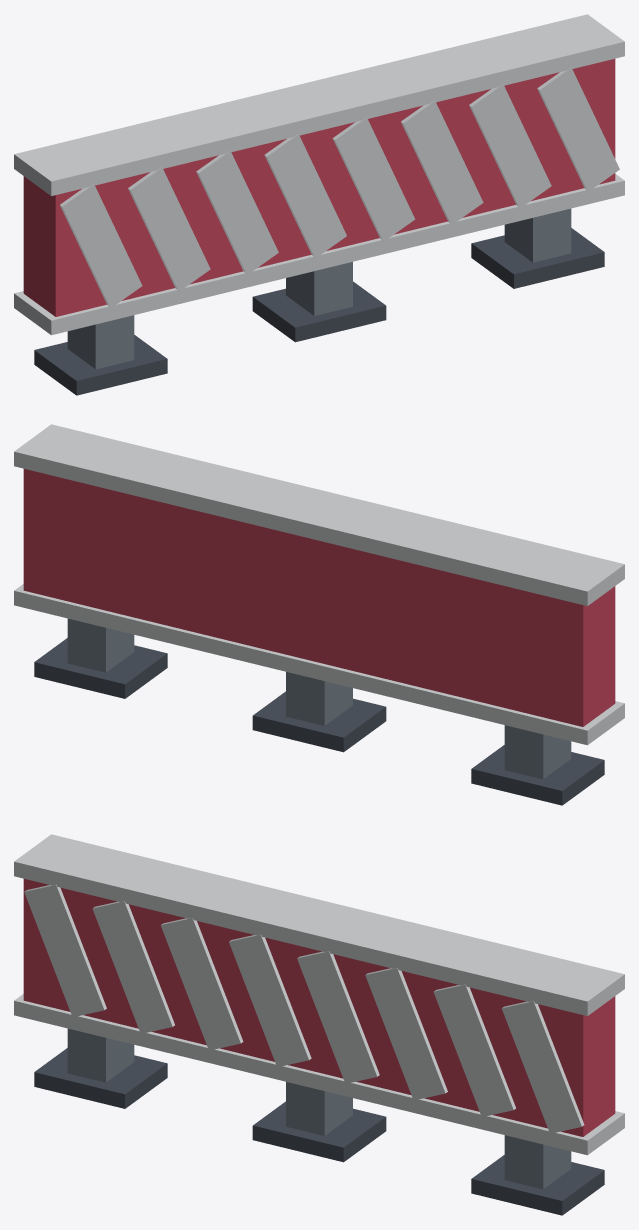
File: road_barrier.glb
3 views of the same model, one above another, from view 1: azimuth 30°, elevation 25°; view 2: azimuth 150°, elevation 25°; view 3: azimuth 330°, elevation 25° (orthographic).
Visible parts, largest first — view 1: barrier_main, barrier_top, barrier_bottom, reflective_stripe_2, reflective_stripe_4, reflective_stripe_1, reflective_stripe_5, reflective_stripe_7, reflective_stripe_3, reflective_stripe_0, reflective_stripe_6, barrier_foot_1.25 (+5 smaller); view 2: barrier_main, barrier_top, barrier_bottom, barrier_foot_1.25, barrier_foot_-1.25, barrier_foot_0, barrier_leg_-1.25, barrier_leg_1.25, barrier_leg_0; view 3: barrier_main, barrier_top, barrier_bottom, reflective_stripe_2, reflective_stripe_4, reflective_stripe_0, reflective_stripe_5, reflective_stripe_7, reflective_stripe_3, reflective_stripe_6, reflective_stripe_1, barrier_foot_-1.25 (+5 smaller).
Part boxes in pixels (bbox=[...]): barrier_main: bbox=[23, 59, 615, 316]; barrier_top: bbox=[14, 14, 624, 195]; barrier_bottom: bbox=[14, 174, 624, 335]; reflective_stripe_2: bbox=[196, 150, 278, 274]; reflective_stripe_4: bbox=[332, 117, 415, 241]; reflective_stripe_1: bbox=[128, 167, 210, 291]; reflective_stripe_5: bbox=[401, 101, 483, 225]; reflective_stripe_7: bbox=[537, 67, 619, 191]; reflective_stripe_3: bbox=[264, 134, 346, 258]; reflective_stripe_0: bbox=[60, 184, 142, 308]; reflective_stripe_6: bbox=[469, 84, 551, 208]; barrier_foot_1.25: bbox=[471, 228, 604, 288]; barrier_main: bbox=[23, 469, 615, 726]; barrier_top: bbox=[14, 424, 624, 605]; barrier_bottom: bbox=[14, 584, 624, 745]; barrier_foot_1.25: bbox=[34, 638, 167, 698]; barrier_foot_-1.25: bbox=[471, 745, 604, 805]; barrier_foot_0: bbox=[252, 691, 386, 752]; barrier_leg_-1.25: bbox=[504, 725, 571, 779]; barrier_leg_1.25: bbox=[67, 618, 134, 672]; barrier_leg_0: bbox=[286, 672, 352, 725]; barrier_main: bbox=[23, 879, 615, 1136]; barrier_top: bbox=[14, 834, 624, 1015]; barrier_bottom: bbox=[14, 994, 624, 1155]; reflective_stripe_2: bbox=[160, 918, 243, 1050]; reflective_stripe_4: bbox=[297, 951, 379, 1083]; reflective_stripe_0: bbox=[24, 884, 106, 1017]; reflective_stripe_5: bbox=[365, 968, 447, 1100]; reflective_stripe_7: bbox=[501, 1001, 584, 1133]; reflective_stripe_3: bbox=[229, 934, 311, 1067]; reflective_stripe_6: bbox=[433, 984, 515, 1116]; reflective_stripe_1: bbox=[92, 901, 174, 1033]; barrier_foot_-1.25: bbox=[34, 1048, 167, 1108].
Bounding box in the file's own units: 3.28 × 1.19 × 0.42.
